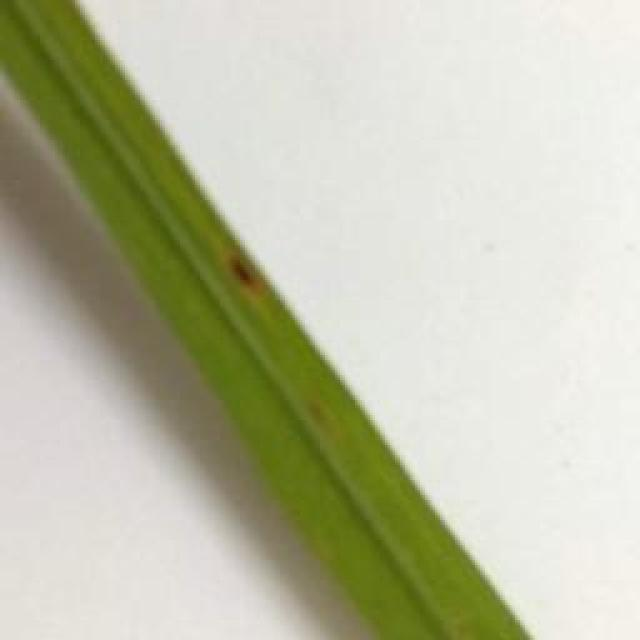Brown_Spot: (225, 244, 265, 294), (304, 400, 334, 430)
